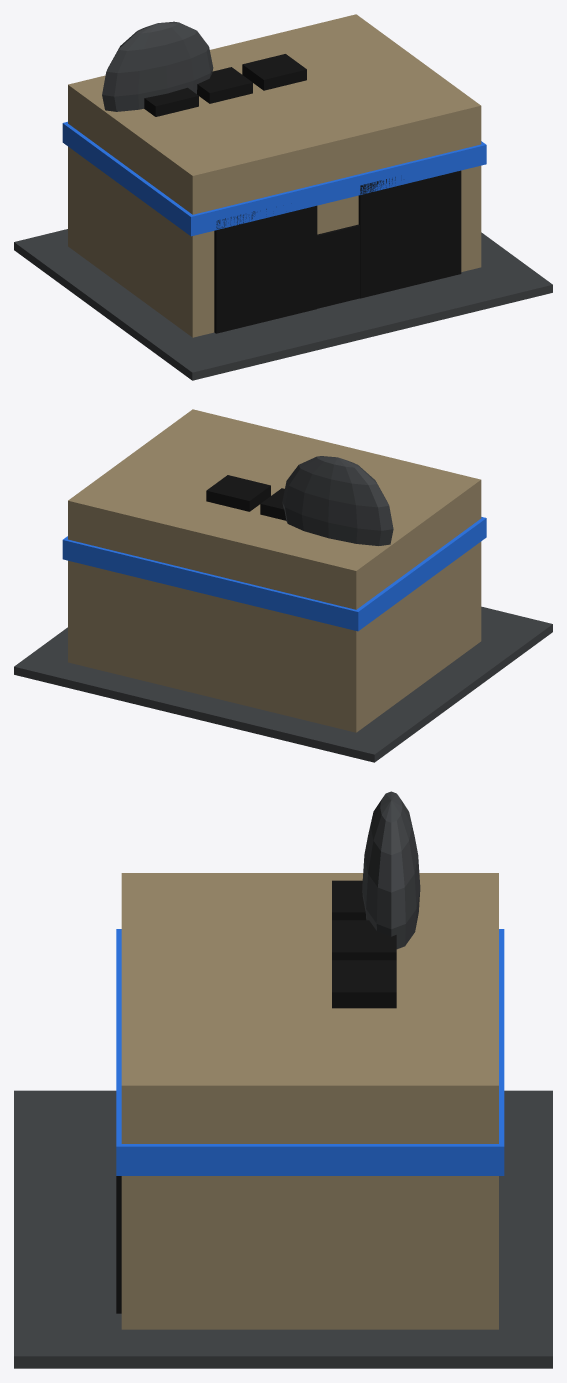
File: ae_vehicle_depot.glb
3 renders of one model, top to bottom at view 1: azimuth 30°, elevation 25°; view 2: azimuth 150°, elevation 25°; view 3: azimuth 270°, elevation 25°, orthographic. The views are drawn at different scales.
Visible parts, largest first — view 1: main, base, garage_0, garage_1, team_band, dish_big, door, vent_2, vent_1, vent_0; view 2: main, base, team_band, dish_big, vent_2, vent_1; view 3: main, base, team_band, dish_big, vent_2, vent_1, vent_0, garage_1.
Boxes of the visible parts, bbox=[...] form: main: bbox=[68, 14, 481, 337]; base: bbox=[14, 229, 552, 380]; garage_0: bbox=[214, 205, 317, 333]; garage_1: bbox=[358, 170, 461, 298]; team_band: bbox=[62, 121, 486, 236]; dish_big: bbox=[102, 21, 213, 111]; door: bbox=[317, 224, 359, 308]; vent_2: bbox=[242, 54, 306, 90]; vent_1: bbox=[197, 67, 252, 103]; vent_0: bbox=[144, 87, 198, 116]; main: bbox=[68, 409, 481, 732]; base: bbox=[14, 606, 552, 762]; team_band: bbox=[62, 517, 486, 631]; dish_big: bbox=[282, 456, 393, 545]; vent_2: bbox=[206, 475, 270, 511]; vent_1: bbox=[260, 488, 286, 520]; main: bbox=[121, 873, 498, 1329]; base: bbox=[14, 1090, 552, 1368]; team_band: bbox=[116, 929, 504, 1175]; dish_big: bbox=[362, 791, 420, 949]; vent_2: bbox=[332, 960, 396, 1008]; vent_1: bbox=[332, 920, 396, 960]; vent_0: bbox=[332, 880, 366, 920]; garage_1: bbox=[116, 1176, 121, 1313].
Size of the model in its own units: 14 by 9.06 by 12.
